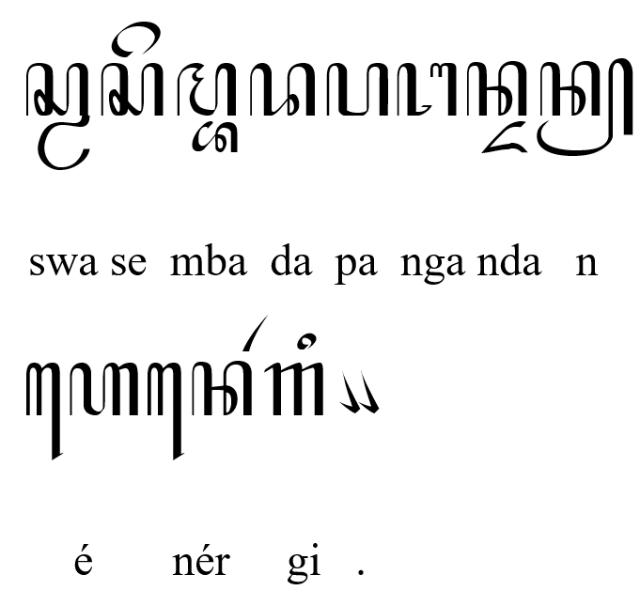-n: (537, 58, 633, 156)
_b: (190, 120, 240, 152)
_d: (479, 120, 528, 154)
_r1: (242, 314, 270, 352)
d: (248, 62, 316, 116)
e: (110, 20, 162, 58)
e1: (24, 361, 64, 461), (146, 362, 184, 460)
g: (264, 362, 324, 416)
h: (68, 362, 140, 416)
i: (296, 333, 318, 351)
kom: (358, 369, 380, 414), (338, 370, 360, 414)
m: (176, 62, 237, 116)
n: (466, 61, 528, 117), (191, 361, 253, 417)
nga: (396, 61, 458, 117)
p: (326, 62, 389, 116)
s: (100, 62, 164, 116)
sw: (25, 62, 91, 170)
